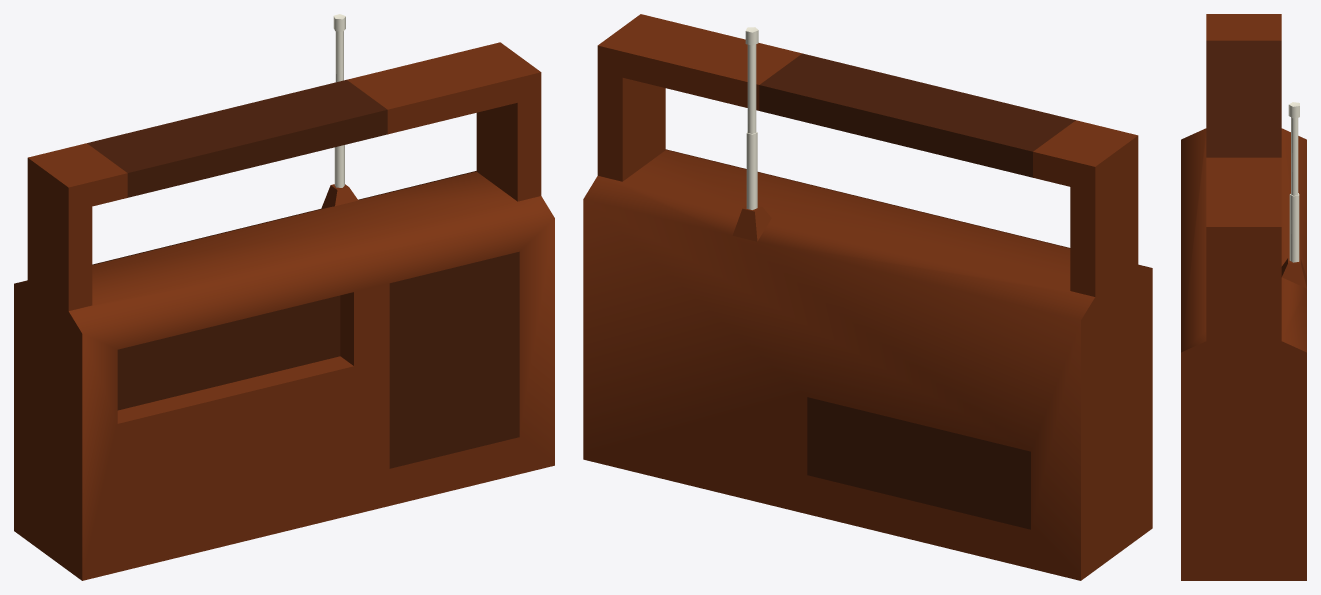
The model's file is Radio.glb.
The picture shows the model from 3 angles, left to right: view 1: azimuth 30°, elevation 25°; view 2: azimuth 150°, elevation 25°; view 3: azimuth 270°, elevation 25°; orthographic projection. The views are drawn at different scales.
Parts seen in each view (by area): view 1: Radio; view 2: Radio; view 3: Radio.
Boxes of the visible parts, <box> form: Radio: <box>14,14,554,580</box>; Radio: <box>583,14,1152,580</box>; Radio: <box>1181,14,1306,580</box>.
Bounding box in the file's own units: 0.4 × 0.3567 × 0.1.
1 material, 1 textured.
